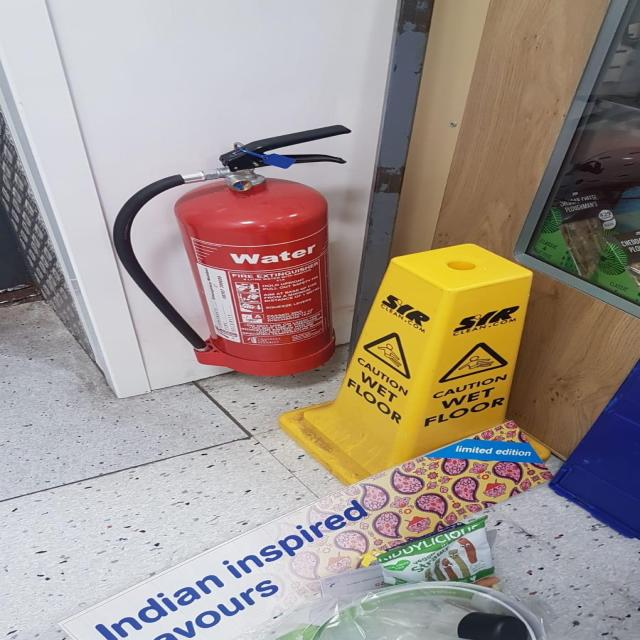fire_extinguisher: (104, 122, 360, 379)
